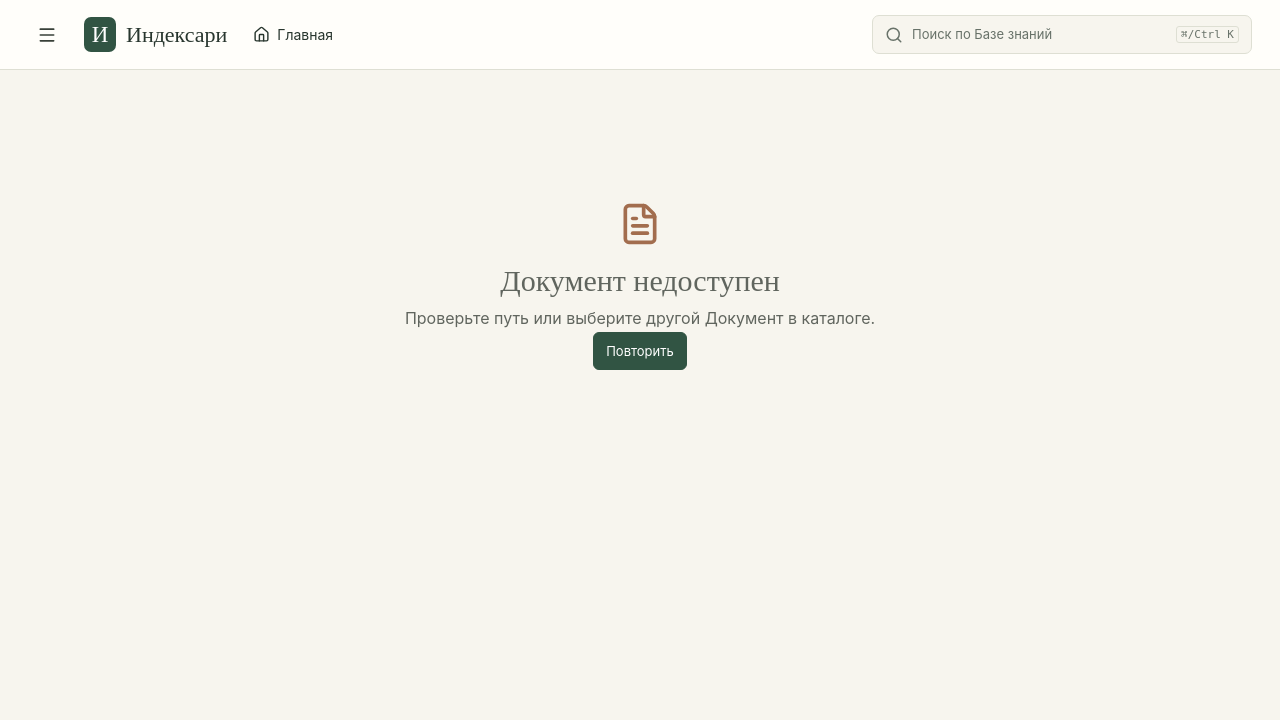
Test: Atlas › distinguishes missing Documents from a server failure
Expected: the heading "Документ недоступен" is shown, [500, 264, 780, 298]
Step 1. Click the button named "Открыть навигацию" → click(47, 34), box [28, 16, 66, 54]
(page scrolled)
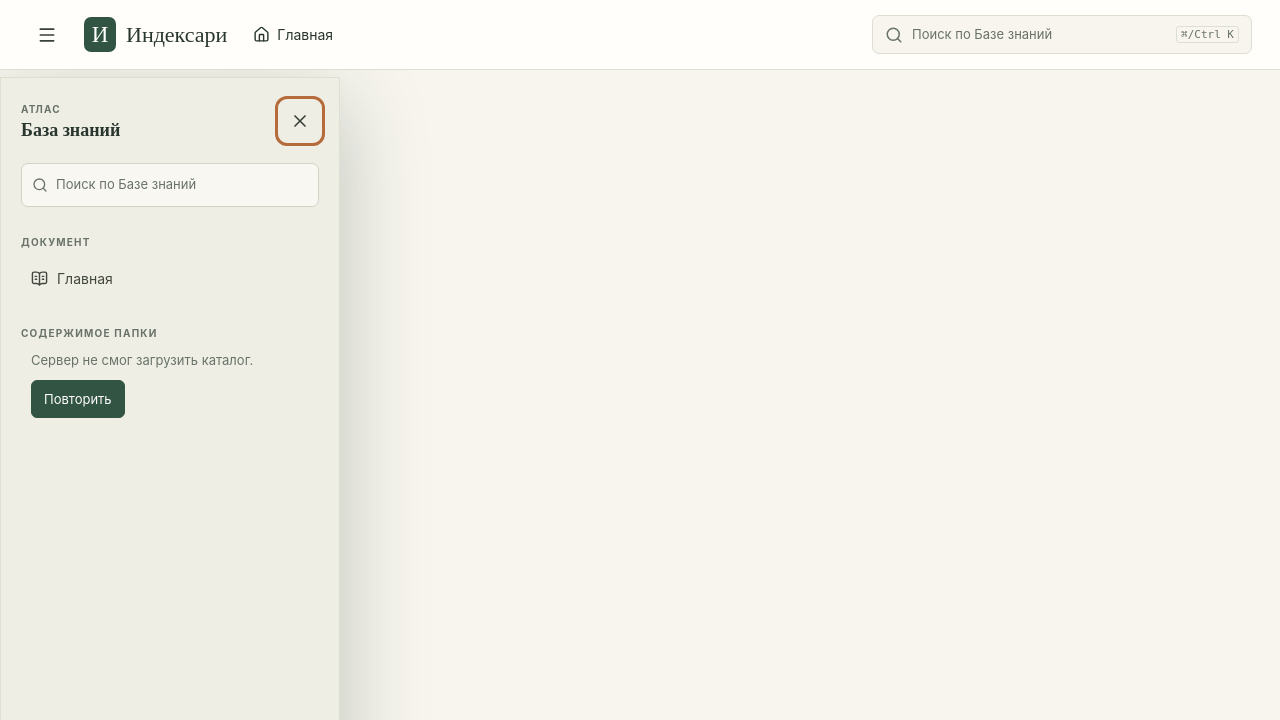
Now the text "Сервер не смог загрузить каталог." is shown, box [31, 352, 253, 368]
